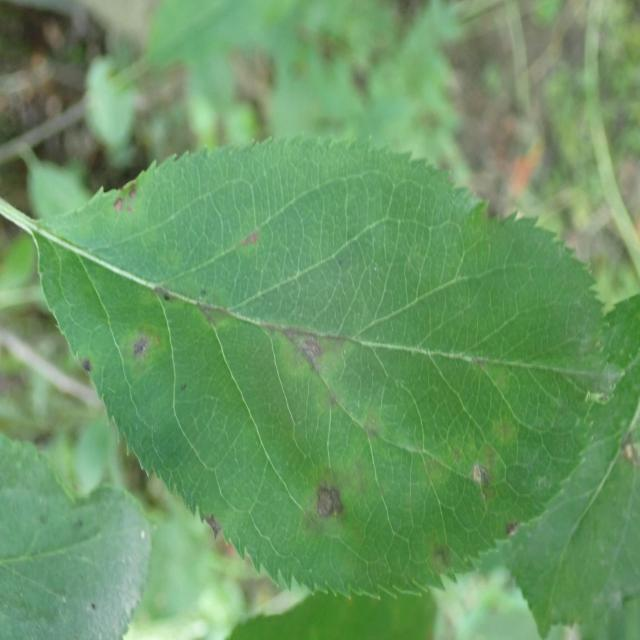scab: (18, 158, 559, 574)
